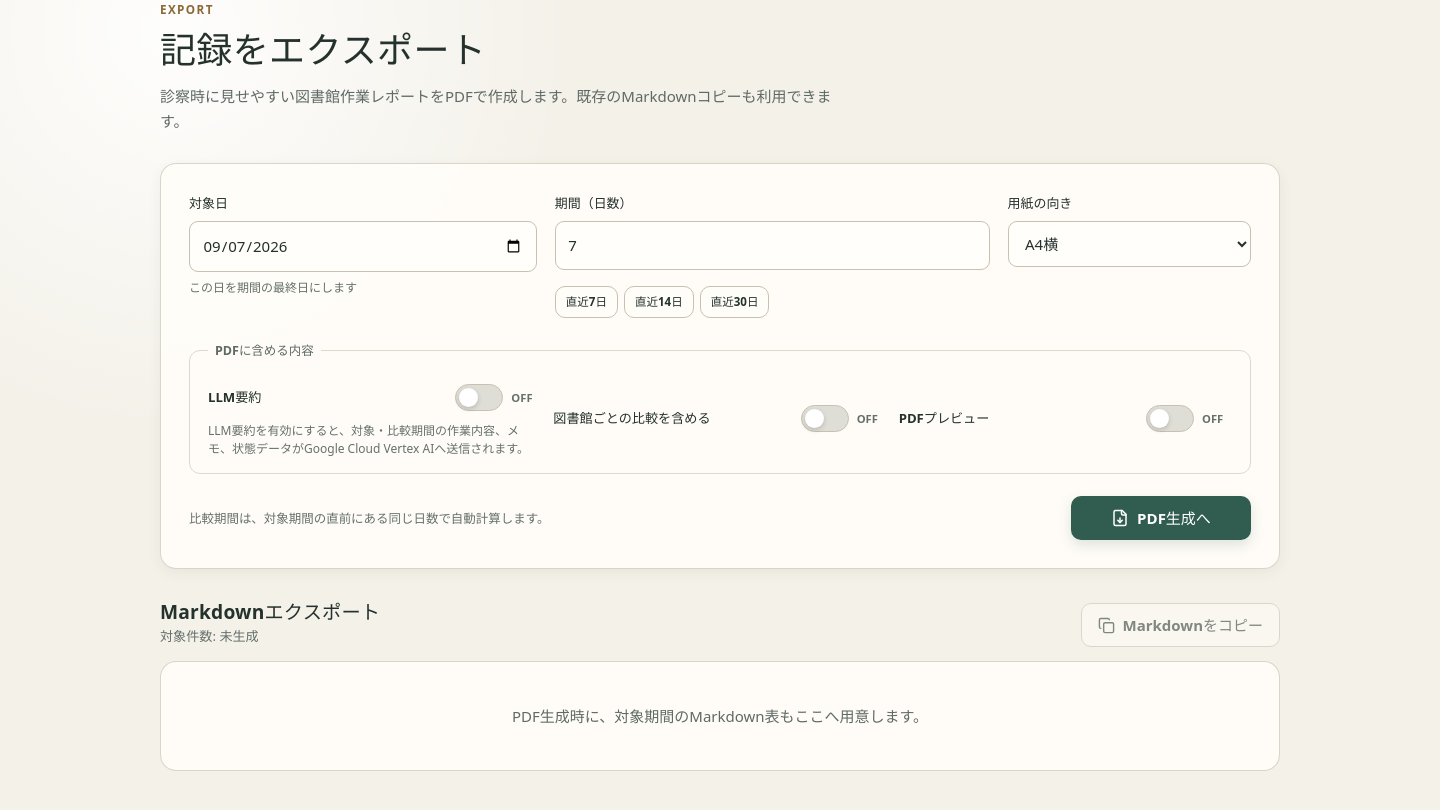
ExportPage › 0件でも期間内の全日をMarkdownへ残しPDFを生成する
Click the button "PDF生成へ" at coordinates (1161, 518), box x1=1071 y1=496 x2=1251 y2=540
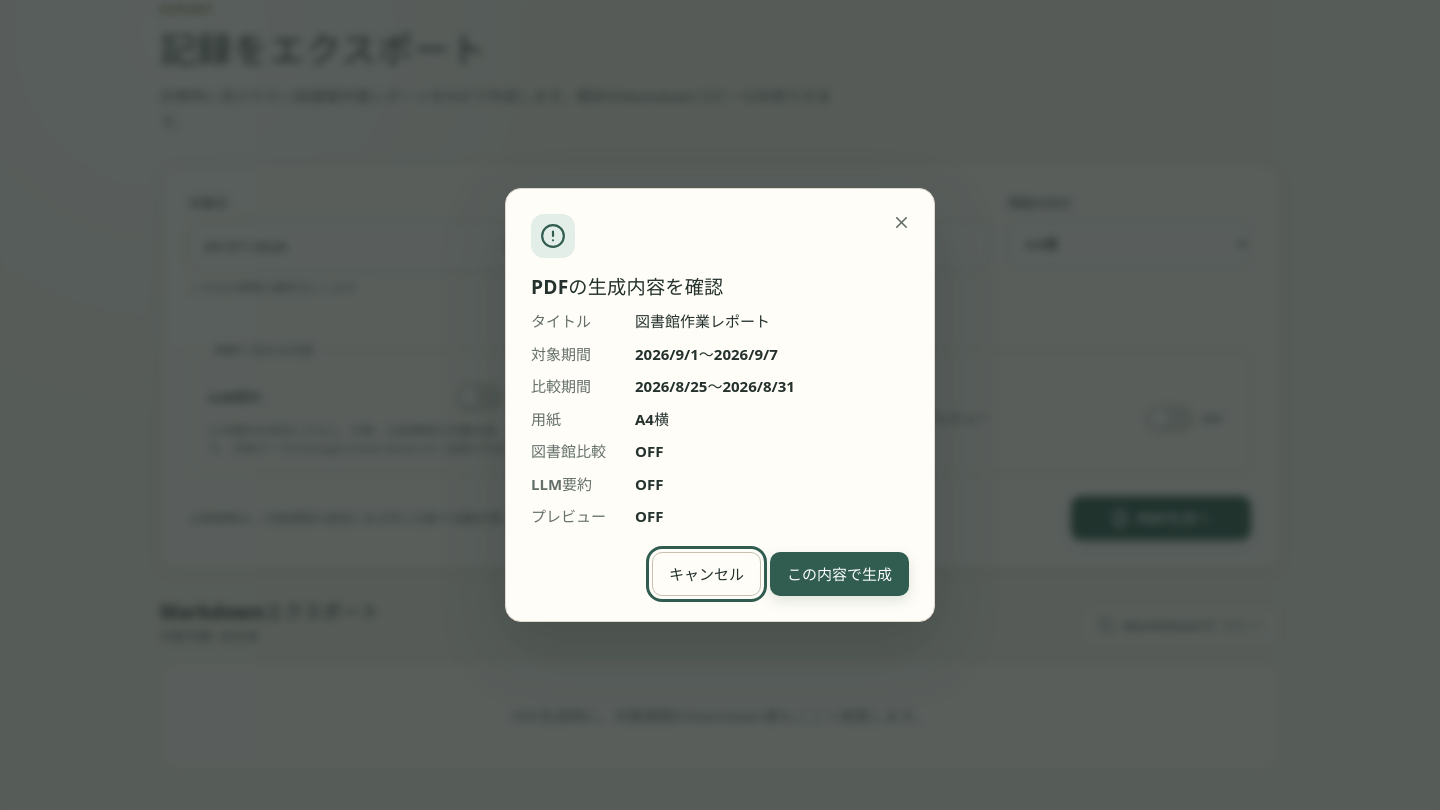
Click the button "この内容で生成" at coordinates (840, 574), box x1=770 y1=552 x2=909 y2=596
(page scrolled)
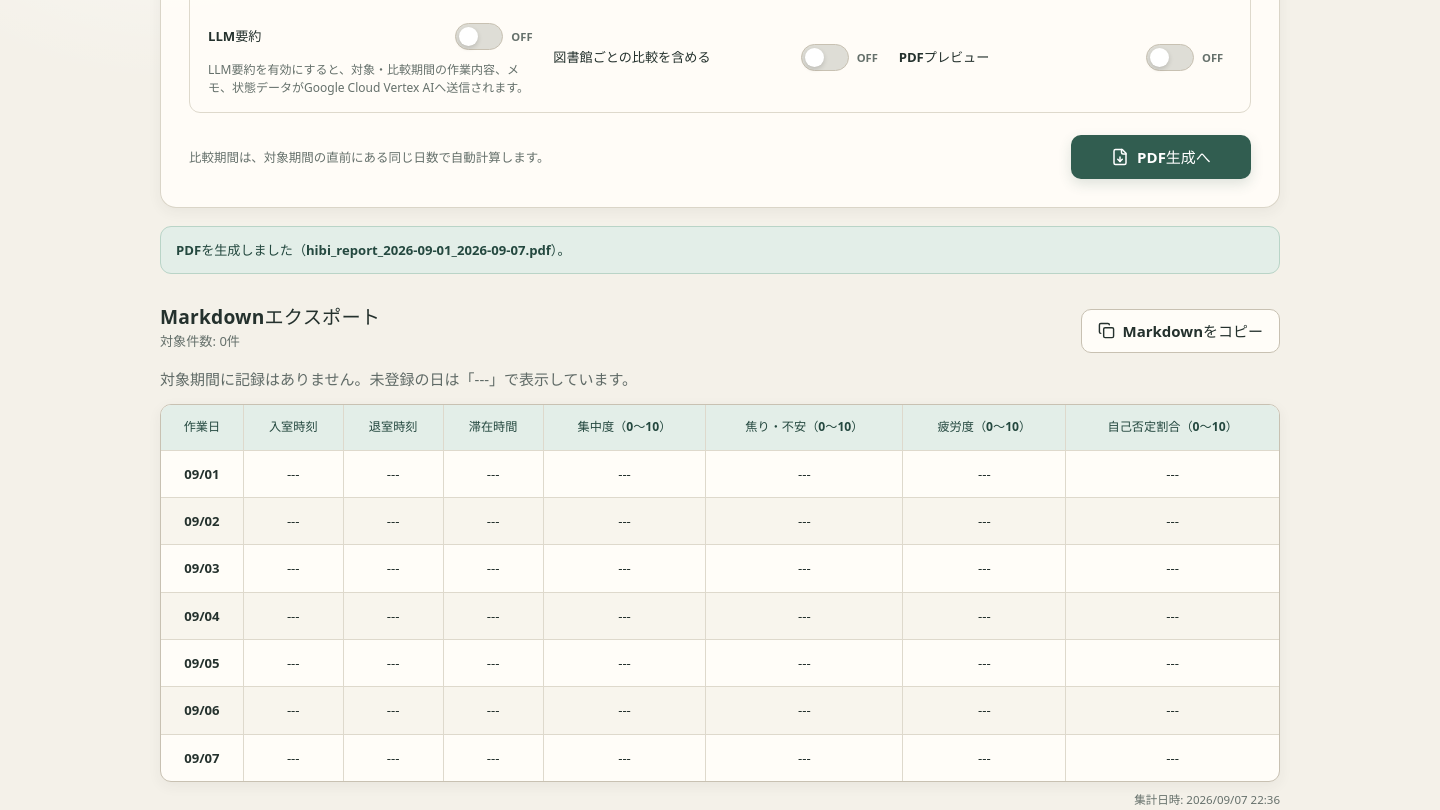
Expected: the text "対象件数: 0件" is shown, x1=160 y1=332 x2=240 y2=350
Expected: the text "対象期間に記録はありません" is shown, x1=160 y1=369 x2=637 y2=389
Expected: the table with class "export-data-table--preview" is shown, x1=161 y1=405 x2=1279 y2=781
